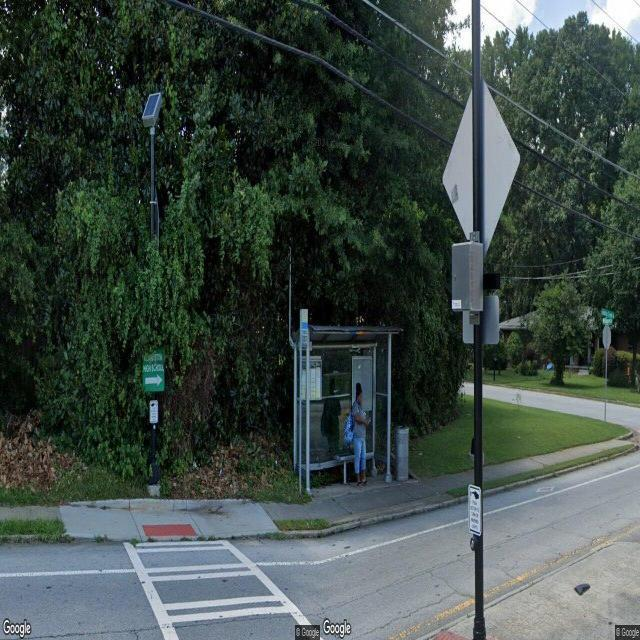seating: (335, 450, 371, 480)
shelter: (294, 326, 402, 493)
trash_can: (394, 426, 410, 482)
